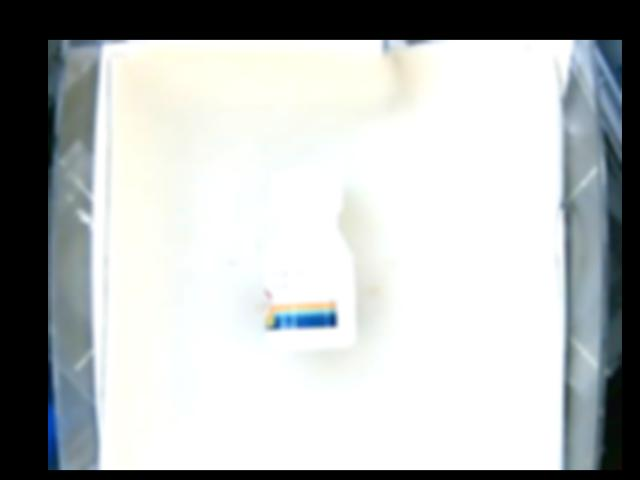Bottle: (263, 169, 357, 350)
